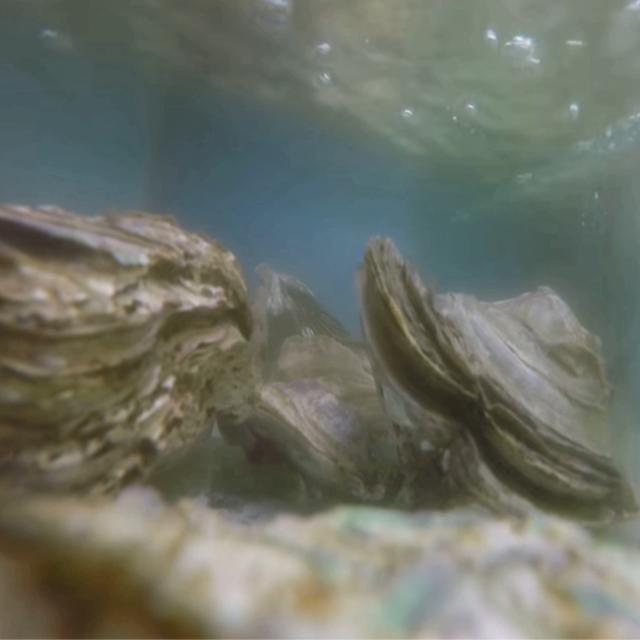Oyster-Closed: (0, 201, 253, 537), (256, 335, 415, 511)
Oyster-Indeterminate: (0, 488, 640, 640), (254, 255, 370, 372)
Oyster-Open: (354, 235, 640, 543)
